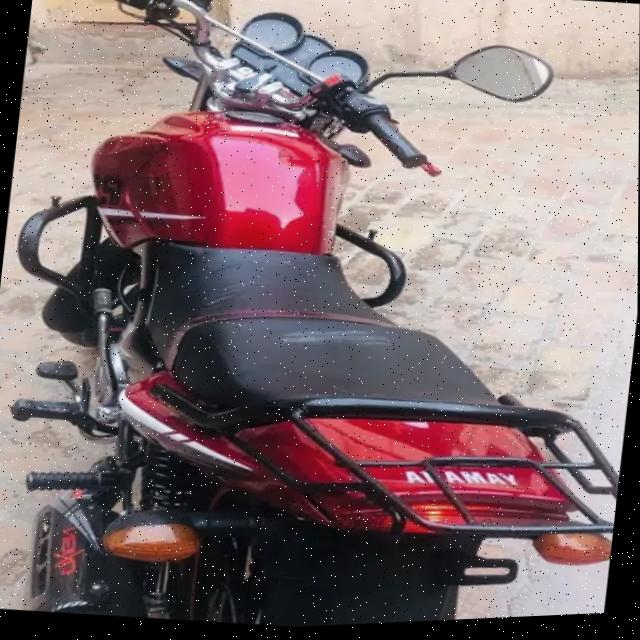Bike: (36, 0, 555, 639)
